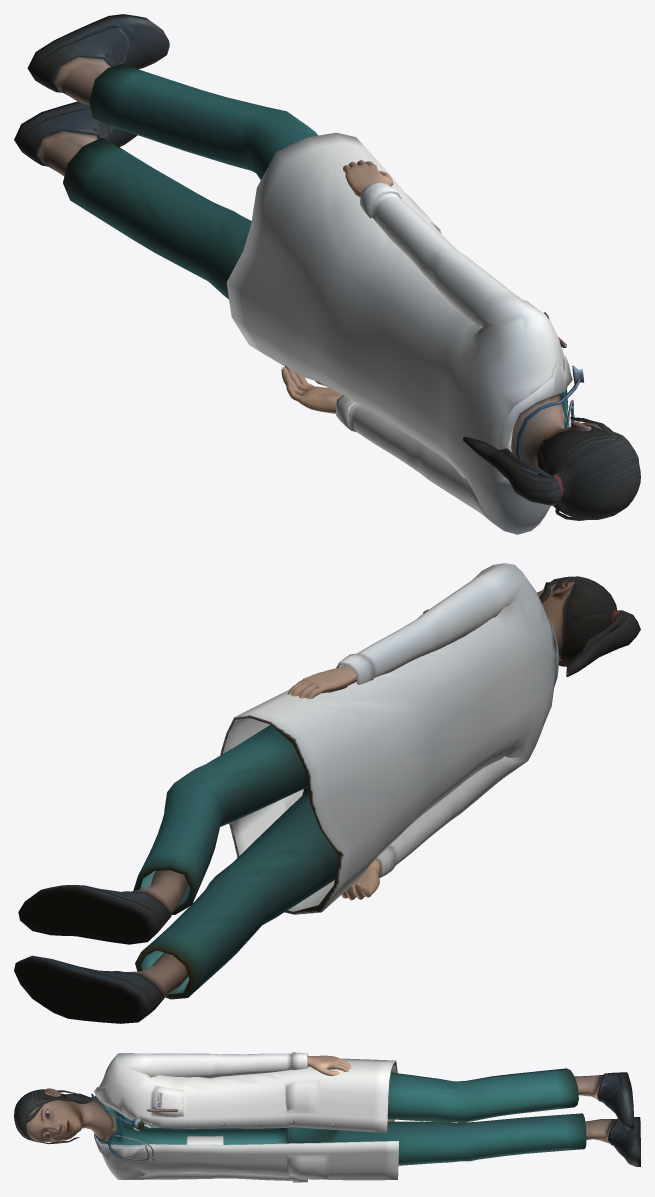
File: walk.obj
The picture shows the model from 3 angles, top to bottom: view 1: azimuth 30°, elevation 25°; view 2: azimuth 150°, elevation 25°; view 3: azimuth 270°, elevation 25°; orthographic projection. The views are drawn at different scales.
Bounding box in the file's own units: 0.2997 × 0.4057 × 1.72.
1 material, 1 textured.
